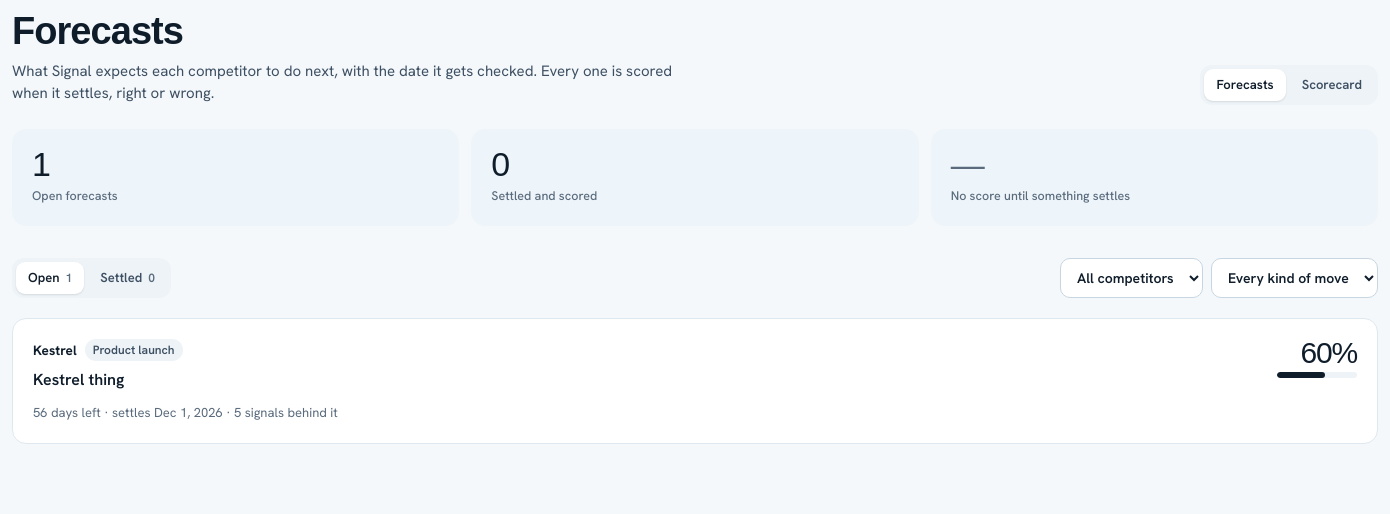
Test case: ForecastClient › filters by competitor and offers to clear an empty filter
The width and height of the screenshot is (1390, 514).
Select "Lumen" in the 1st dropdown named "Competitor": (1132, 278) [1060, 258, 1203, 298]
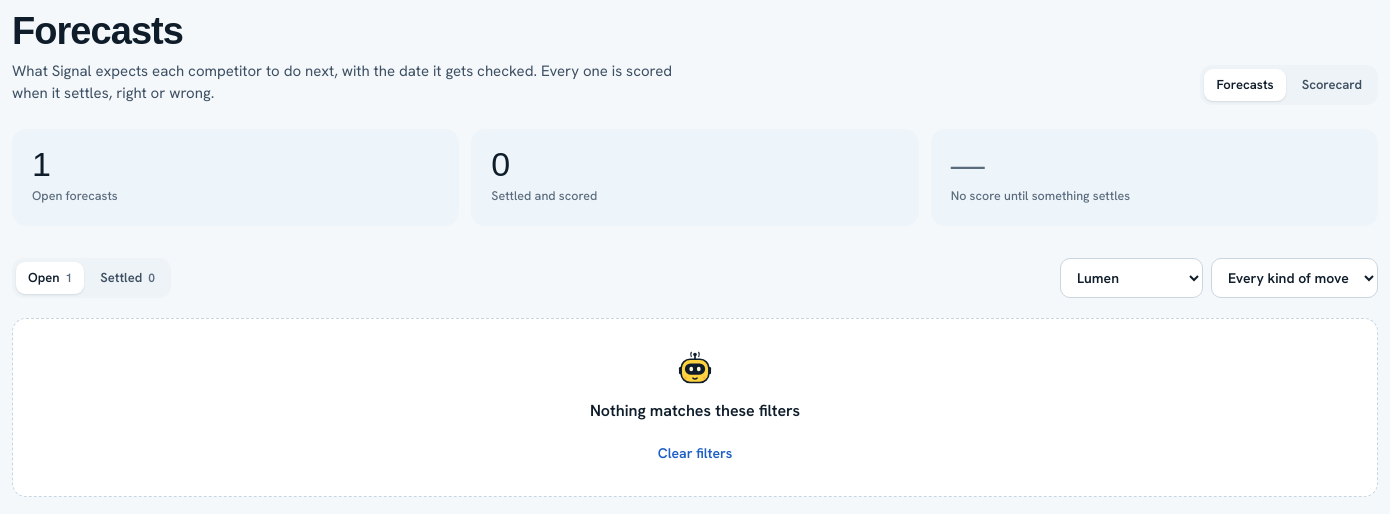
Now the text "Nothing matches these filters" is shown, box [590, 399, 800, 423]
Click the button "Clear filters": (695, 454) [658, 443, 732, 464]
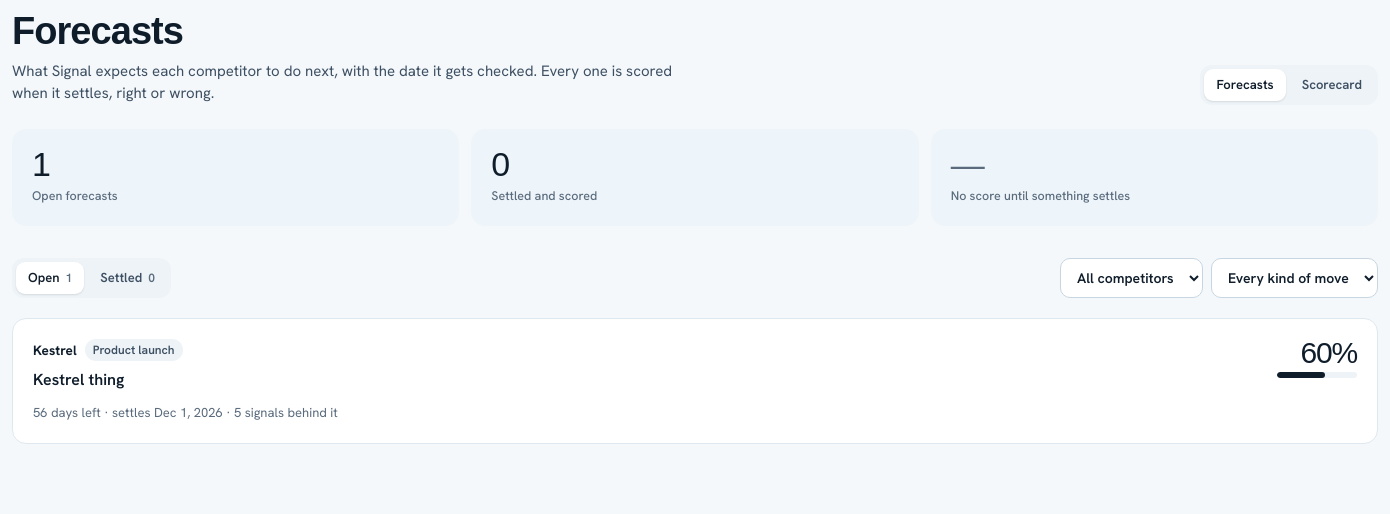
Now the text "Kestrel thing" is shown, box [33, 369, 124, 390]
